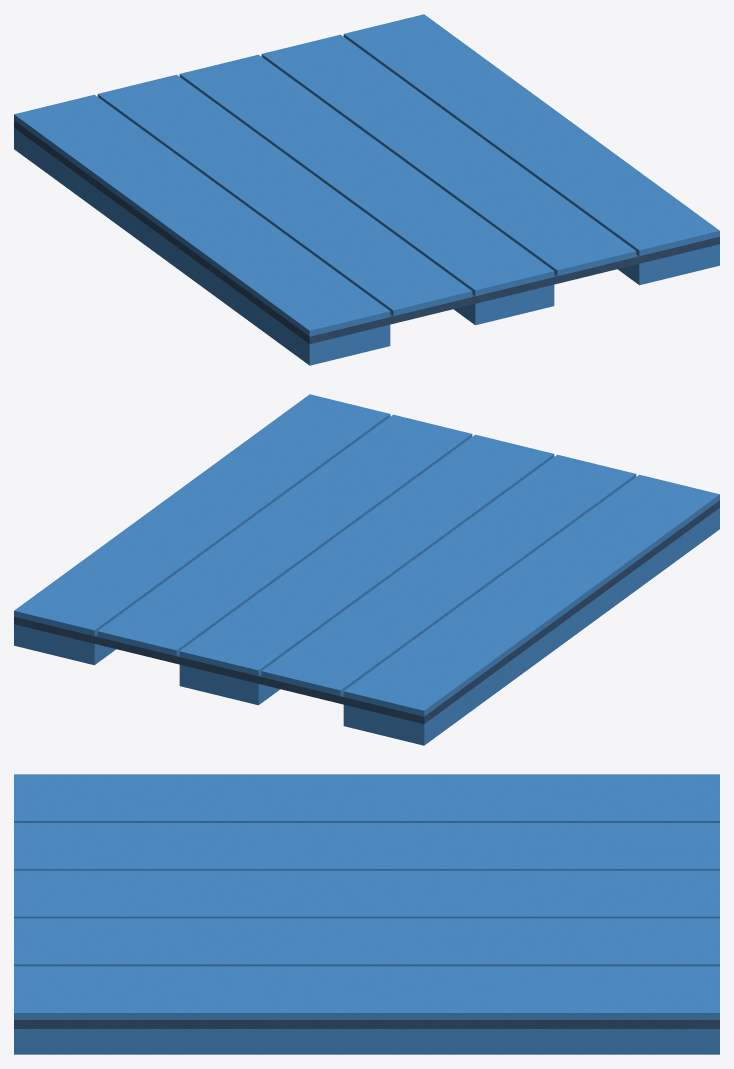
File: Estibias de plastico.fbx
The picture shows the model from 3 angles, top to bottom: view 1: azimuth 30°, elevation 25°; view 2: azimuth 150°, elevation 25°; view 3: azimuth 270°, elevation 25°; orthographic projection. The views are drawn at different scales.
Visible parts, largest first — view 1: Paletas.002; view 2: Paletas.002; view 3: Paletas.002.
Part boxes in pixels (<box>): Paletas.002: <box>14,14,719,365</box>; Paletas.002: <box>14,394,719,745</box>; Paletas.002: <box>14,774,719,1054</box>.
Bounding box in the file's own units: 80.04 × 6.51 × 99.98.
